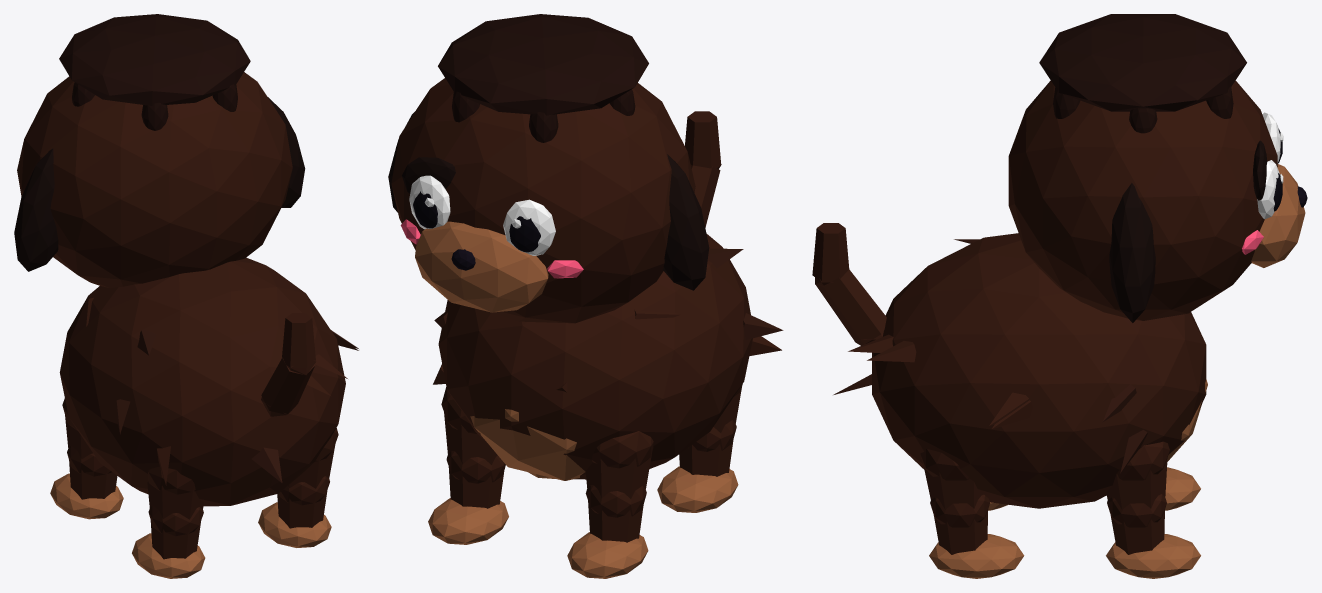
The model's file is truffle_pup.obj.
The picture shows the model from 3 angles, left to right: view 1: azimuth 30°, elevation 25°; view 2: azimuth 150°, elevation 25°; view 3: azimuth 270°, elevation 25°; orthographic projection. The views are drawn at different scales.
Parts seen in each view (by area): view 1: Body_1_m1, Head_2_m4, Head_2_m27, Head_2_m23, Leg3Lo_8_m18, Leg3Up_7_m17, Leg4Lo_10_m21, Leg1Lo_4_m12, Tail2_12_m26, Tail1_11_m25, Leg1Lo_4_m13, Leg4Lo_10_m22 (+4 smaller); view 2: Body_1_m1, Head_2_m4, Head_2_m27, Head_2_m5, Head_2_m23, Body_1_m2, Leg1Up_3_m11, Leg1Lo_4_m13, Leg3Lo_8_m19, Leg2Lo_6_m16, Leg1Lo_4_m12, Leg2Lo_6_m15 (+8 smaller); view 3: Body_1_m1, Head_2_m4, Head_2_m27, Head_2_m23, Tail1_11_m25, Leg2Up_5_m14, Head_2_m5, Leg2Lo_6_m16, Leg4Lo_10_m22, Leg2Lo_6_m15, Leg4Lo_10_m21, Leg4Up_9_m20 (+4 smaller).
Part boxes in pixels (bbox=[...]): Body_1_m1: bbox=[59, 257, 358, 506]; Head_2_m4: bbox=[17, 72, 292, 288]; Head_2_m27: bbox=[59, 14, 250, 130]; Head_2_m23: bbox=[14, 97, 305, 271]; Leg3Lo_8_m18: bbox=[148, 505, 203, 559]; Leg3Up_7_m17: bbox=[147, 466, 203, 519]; Leg4Lo_10_m21: bbox=[277, 476, 329, 528]; Leg1Lo_4_m12: bbox=[67, 446, 117, 499]; Tail2_12_m26: bbox=[282, 313, 316, 375]; Tail1_11_m25: bbox=[261, 357, 315, 416]; Leg1Lo_4_m13: bbox=[50, 473, 123, 519]; Leg4Lo_10_m22: bbox=[258, 502, 331, 547]; Body_1_m1: bbox=[438, 233, 781, 479]; Head_2_m4: bbox=[391, 78, 695, 323]; Head_2_m27: bbox=[438, 14, 648, 142]; Head_2_m5: bbox=[415, 221, 548, 312]; Head_2_m23: bbox=[388, 112, 709, 290]; Body_1_m2: bbox=[470, 409, 585, 480]; Leg1Up_3_m11: bbox=[585, 431, 653, 498]; Leg1Lo_4_m13: bbox=[567, 532, 648, 578]; Leg3Lo_8_m19: bbox=[657, 466, 738, 512]; Leg2Lo_6_m16: bbox=[428, 498, 508, 544]; Leg1Lo_4_m12: bbox=[585, 485, 646, 542]; Leg2Lo_6_m15: bbox=[446, 451, 505, 508]; Body_1_m1: bbox=[848, 233, 1206, 508]; Head_2_m4: bbox=[1008, 80, 1277, 320]; Head_2_m27: bbox=[1039, 14, 1246, 133]; Head_2_m23: bbox=[1109, 140, 1267, 322]; Tail1_11_m25: bbox=[816, 269, 886, 345]; Leg2Up_5_m14: bbox=[1106, 441, 1169, 509]; Head_2_m5: bbox=[1251, 164, 1305, 267]; Leg2Lo_6_m16: bbox=[1106, 534, 1200, 578]; Leg4Lo_10_m22: bbox=[929, 534, 1024, 578]; Leg2Lo_6_m15: bbox=[1107, 494, 1166, 554]; Leg4Lo_10_m21: bbox=[930, 494, 989, 554]; Leg4Up_9_m20: bbox=[920, 448, 983, 509].
Size of the model in its own units: 1.71 by 2.67 by 2.38.
